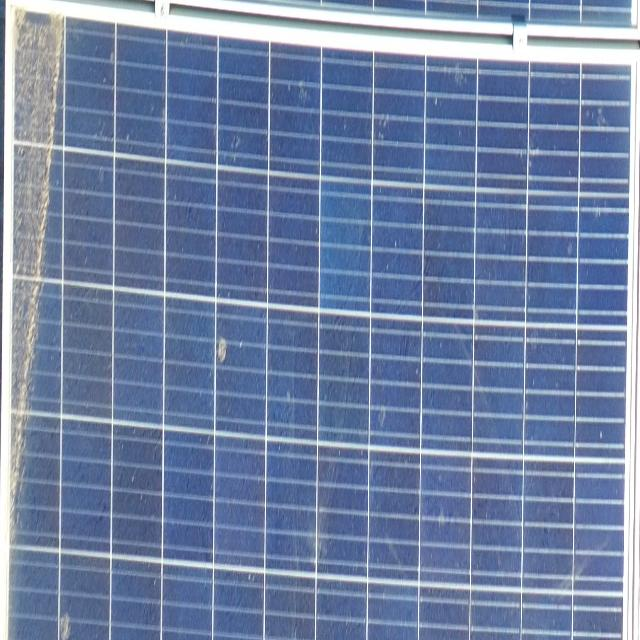Dust: (0, 10, 76, 622)
bird-droppings: (213, 319, 231, 379)
